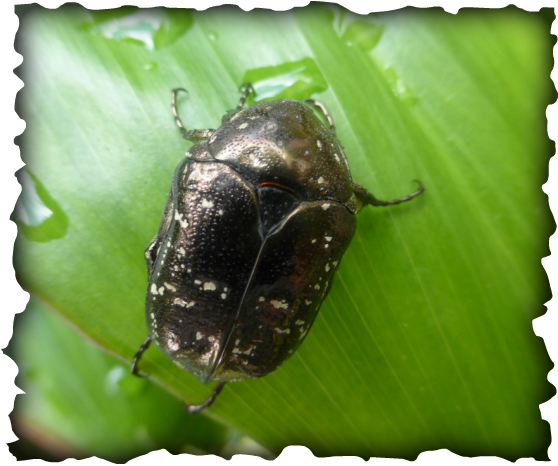coconut rhinoceros beetle: (96, 63, 415, 414)
